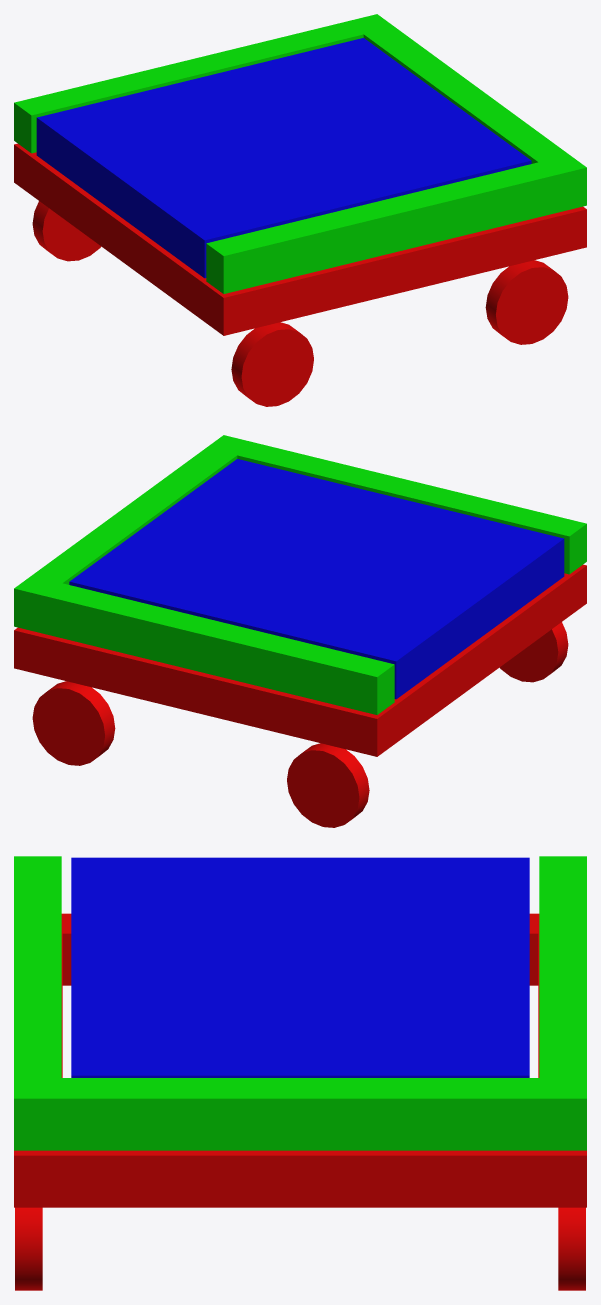
Rendered from daisha.fbx.
The picture shows the model from 3 angles, top to bottom: view 1: azimuth 30°, elevation 25°; view 2: azimuth 150°, elevation 25°; view 3: azimuth 270°, elevation 25°; orthographic projection. The views are drawn at different scales.
Visible parts, largest first — view 1: panel, u_frame, base, tire2, tire3, tire; view 2: panel, u_frame, base, tire1, tire, tire3; view 3: panel, u_frame, base, tire1, tire2.
Boxes of the visible parts, x1,y1,x2,y2 form: panel: (36,38,531,278); u_frame: (14,14,586,293); base: (14,143,586,335); tire2: (485,260,568,344); tire3: (231,322,313,406); tire: (32,201,101,261); panel: (69,459,564,699); u_frame: (14,435,586,714); base: (14,564,586,756); tire1: (32,681,115,765); tire: (287,743,369,827); tire3: (499,622,568,682); panel: (71,857,529,1077); u_frame: (14,856,586,1150); base: (14,913,586,1207); tire1: (558,1207,585,1290); tire2: (15,1207,42,1290).
Size of the model in its own units: 10 by 4.3 by 10.
